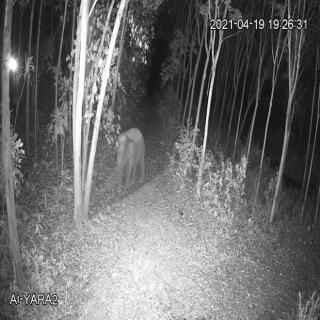Elephant: (113, 124, 149, 198)
